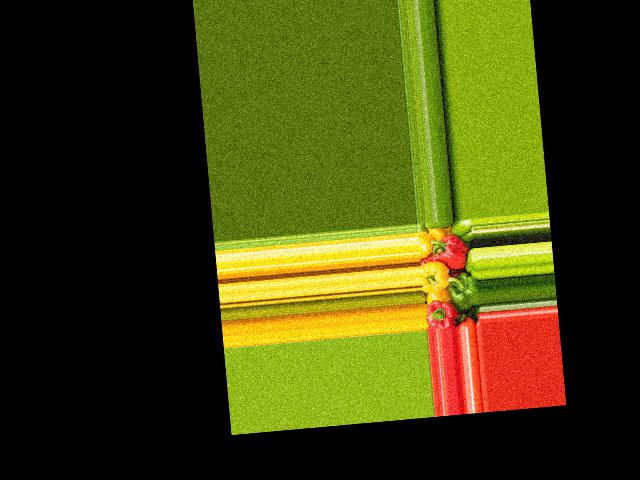bell_pepper: (424, 294, 460, 330)
